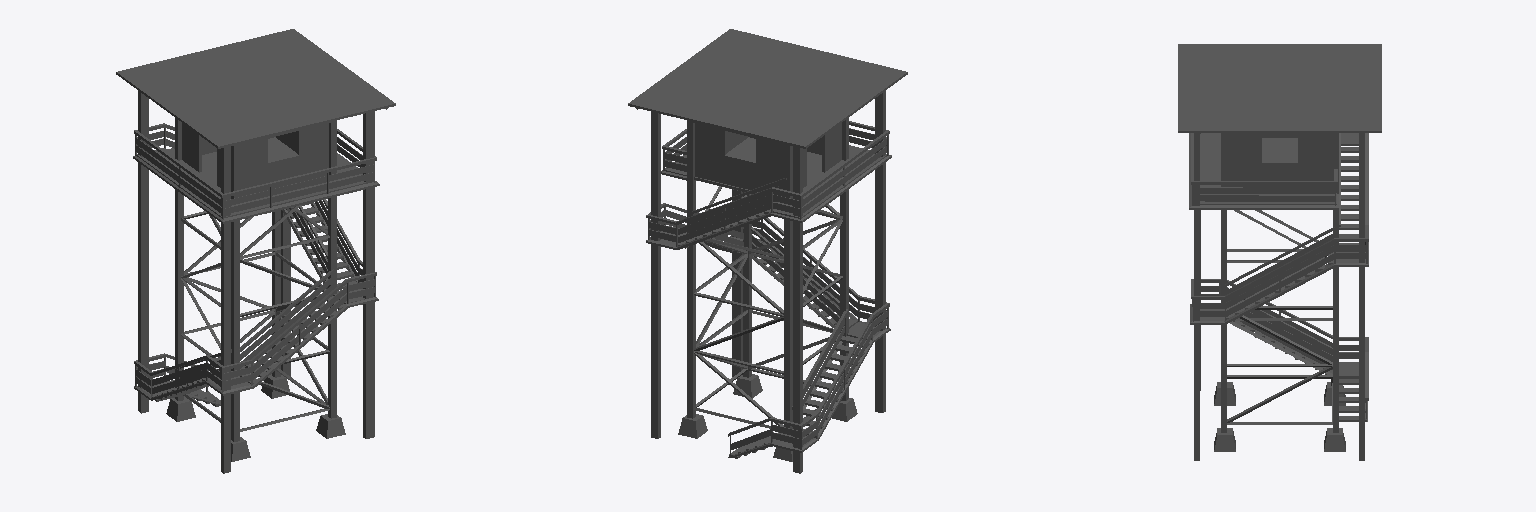
File: tents.obj
3 views of the same model, side by side, from view 1: azimuth 30°, elevation 25°; view 2: azimuth 150°, elevation 25°; view 3: azimuth 270°, elevation 25° (orthographic).
Parts seen in each view (by area): view 1: watchtowerHigh_watchtower; view 2: watchtowerHigh_watchtower; view 3: watchtowerHigh_watchtower.
Part boxes in pixels (x1,y1,x2,y2): watchtowerHigh_watchtower: (116, 29, 395, 473); watchtowerHigh_watchtower: (628, 29, 907, 473); watchtowerHigh_watchtower: (1178, 44, 1381, 460).
Bounding box in the file's own units: 4.22 × 7.65 × 4.22.